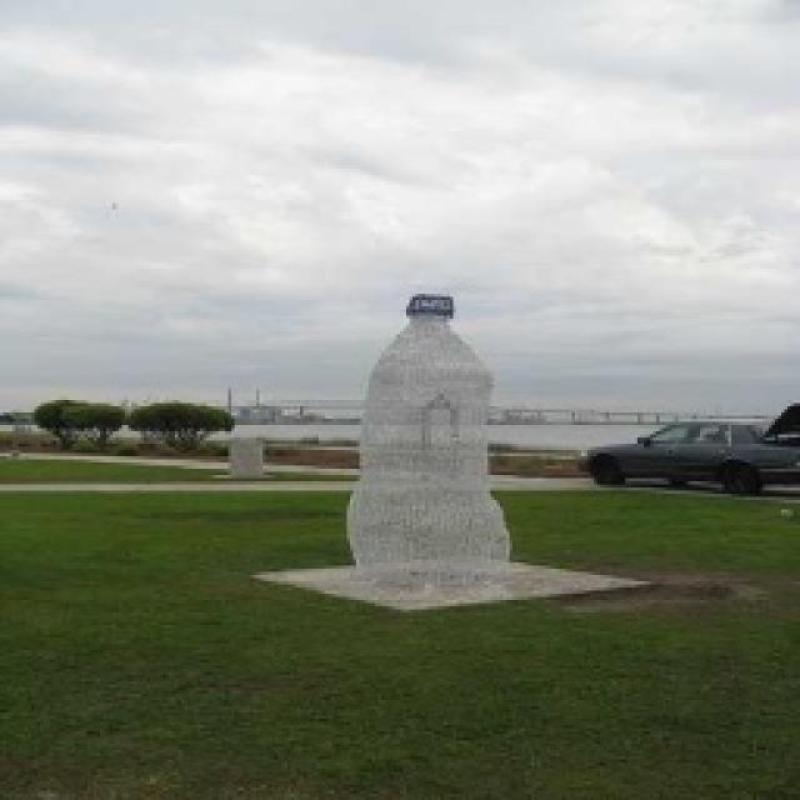botella: (345, 295, 517, 605)
